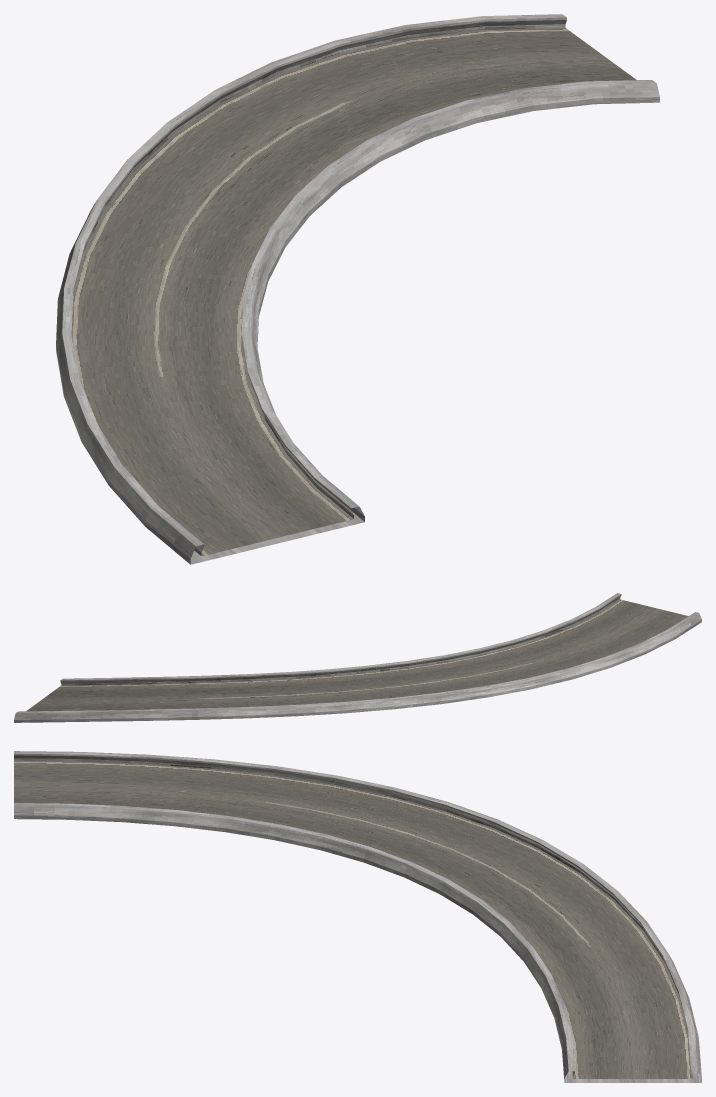
The model's file is turn-right5x5.glb.
3 views of the same model, one above another, from view 1: azimuth 30°, elevation 25°; view 2: azimuth 150°, elevation 25°; view 3: azimuth 270°, elevation 25° (orthographic). The views are drawn at different scales.
Visible parts, largest first — view 1: road-Turn-Flat-BiSlopeDown-Down1-Right-Size5; view 2: road-Turn-Flat-BiSlopeDown-Down1-Right-Size5; view 3: road-Turn-Flat-BiSlopeDown-Down1-Right-Size5.
Boxes of the visible parts, bbox=[...] form: road-Turn-Flat-BiSlopeDown-Down1-Right-Size5: bbox=[56, 14, 659, 564]; road-Turn-Flat-BiSlopeDown-Down1-Right-Size5: bbox=[14, 593, 701, 722]; road-Turn-Flat-BiSlopeDown-Down1-Right-Size5: bbox=[14, 751, 701, 1082].
Bounding box in the file's own units: 5 × 0.4802 × 5.
2 materials, 2 textured.
